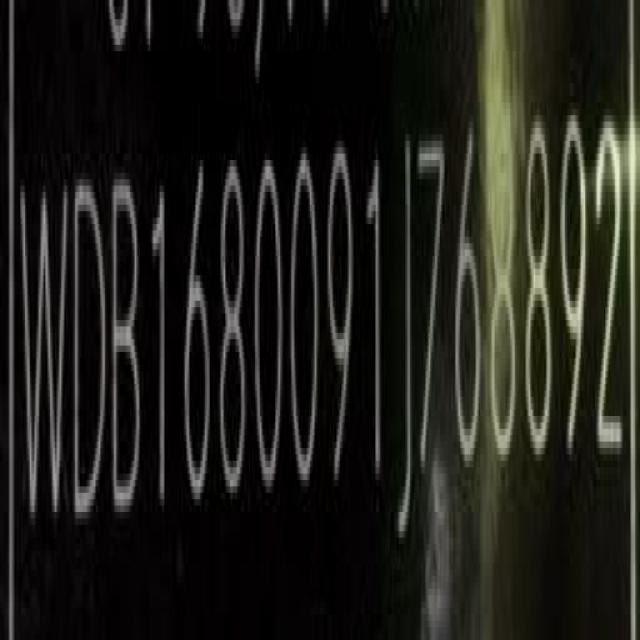0: (253, 152, 286, 501), (292, 147, 322, 502)
1: (364, 139, 386, 507), (150, 169, 172, 526)
2: (596, 107, 626, 472)
6: (184, 161, 215, 514), (454, 118, 484, 471)
7: (416, 124, 448, 482)
8: (488, 110, 520, 468), (217, 153, 248, 505), (523, 105, 553, 468)
9: (558, 108, 590, 472), (326, 148, 356, 506)
B: (111, 176, 144, 530)
D: (72, 172, 108, 534)
J: (394, 123, 416, 545)
W: (15, 176, 68, 542)
